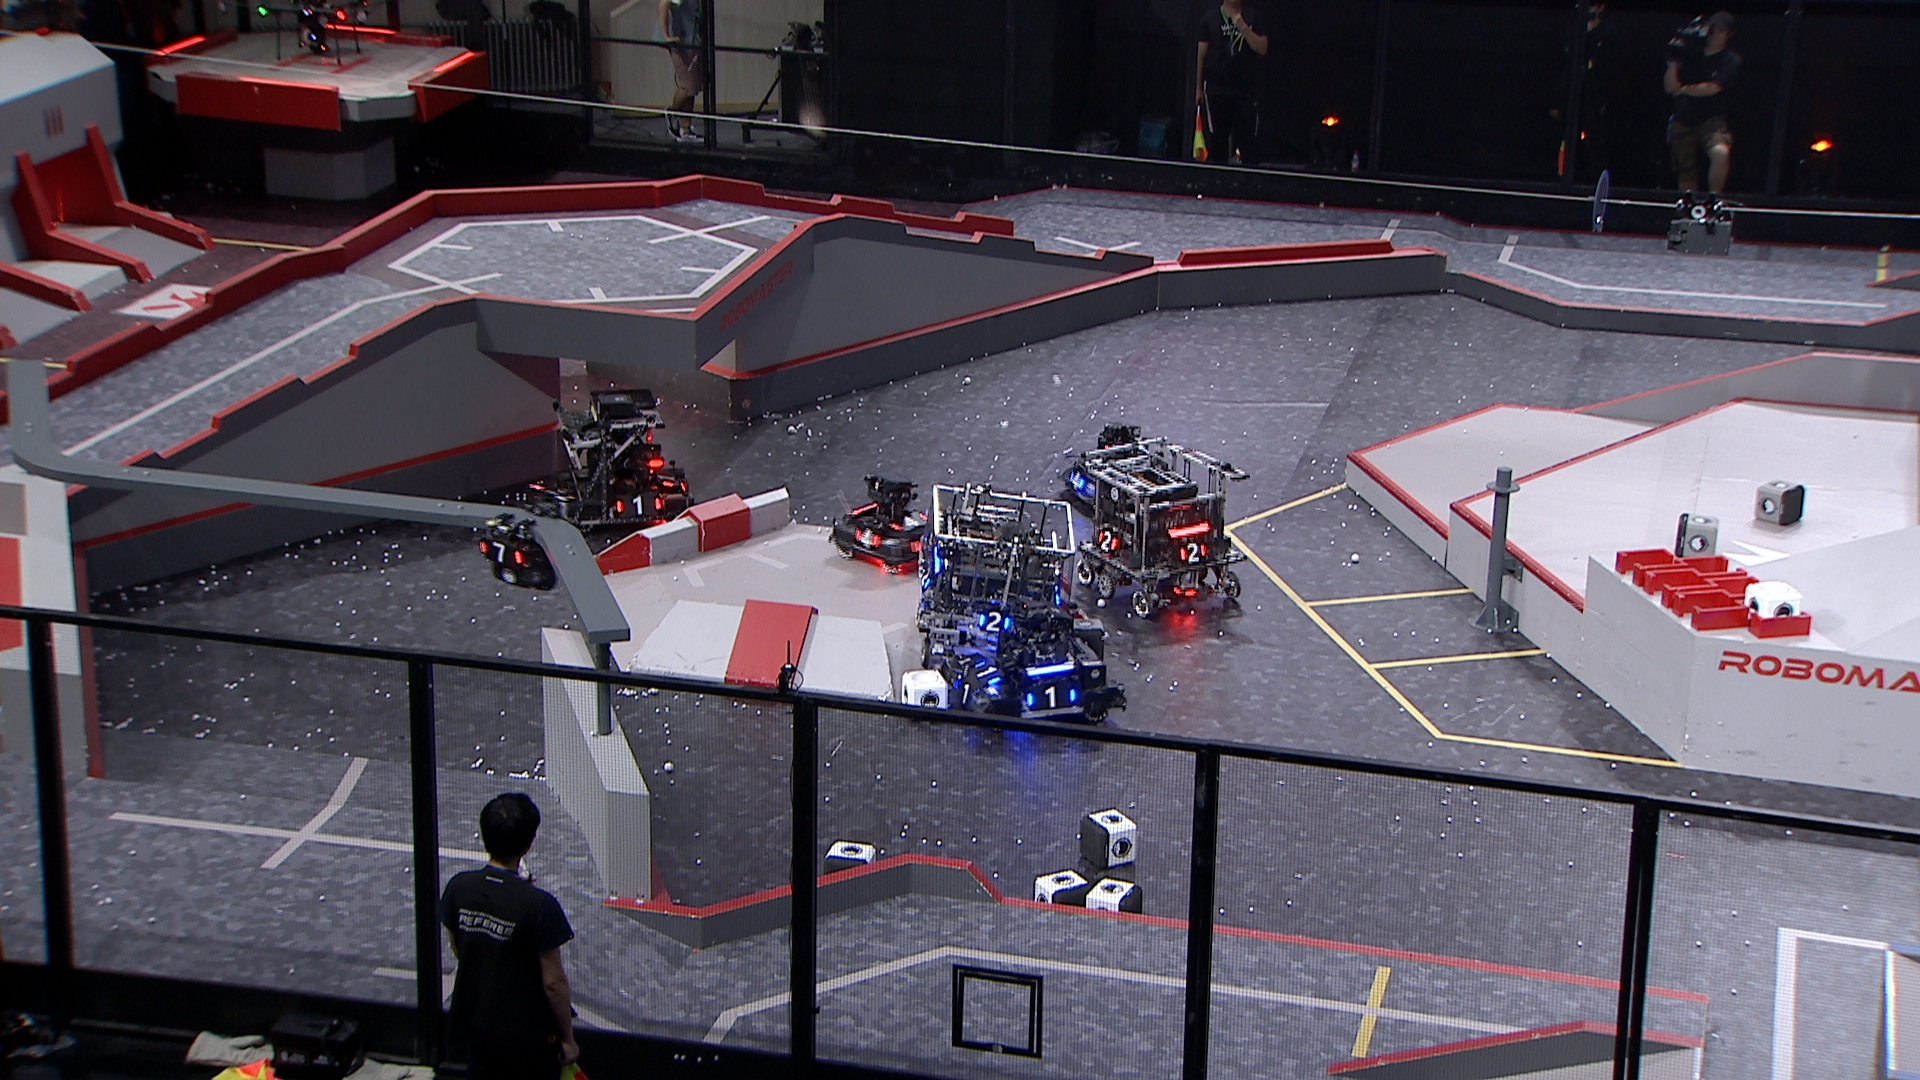armor: (1025, 684, 1079, 712), (612, 495, 666, 518), (476, 538, 524, 564), (977, 609, 1013, 633), (972, 659, 1001, 687), (949, 675, 975, 707), (1178, 541, 1207, 567), (889, 513, 927, 531), (1096, 527, 1121, 555), (855, 527, 884, 550), (654, 469, 678, 491), (918, 564, 935, 589), (1067, 469, 1087, 491)
car: (1072, 436, 1247, 621), (913, 481, 1077, 665), (945, 603, 1129, 740), (553, 384, 698, 545), (825, 475, 945, 578), (1058, 418, 1156, 514)
watcher: (475, 481, 580, 589)
